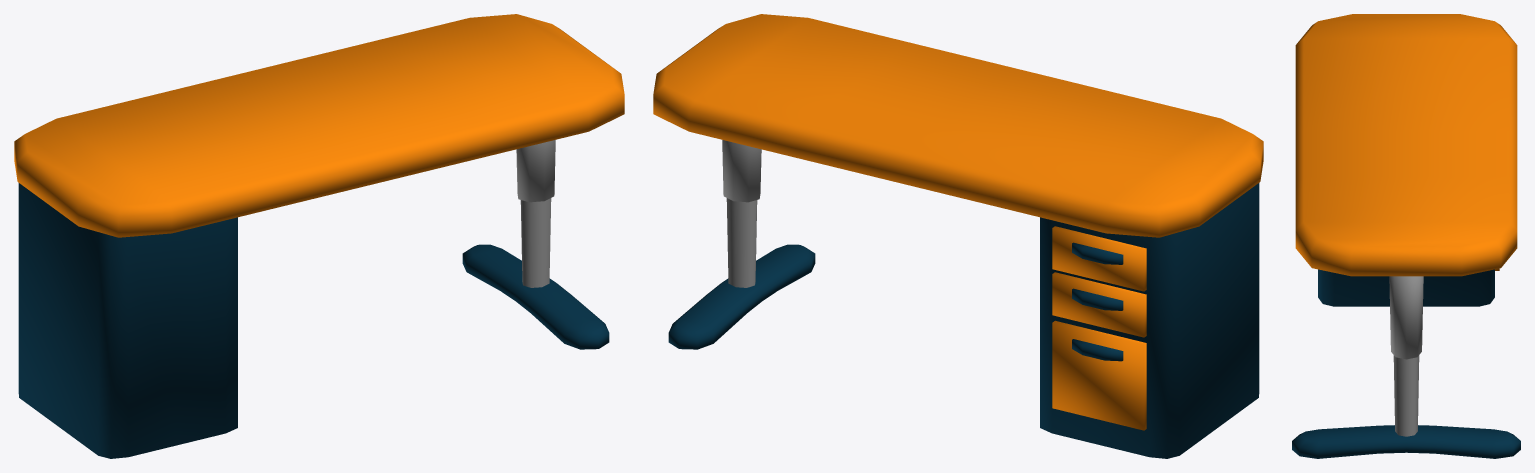
Rendered from Desk.FBX.
3 views of the same model, side by side, from view 1: azimuth 30°, elevation 25°; view 2: azimuth 150°, elevation 25°; view 3: azimuth 270°, elevation 25° (orthographic). The views are drawn at different scales.
Parts seen in each view (by area): view 1: Desk; view 2: Desk; view 3: Desk.
Part boxes in pixels (box(x1,y1,x2,y2)): Desk: box(14, 14, 624, 458); Desk: box(653, 14, 1263, 458); Desk: box(1292, 14, 1520, 458).
Size of the model in its own units: 2.02 by 0.9003 by 0.8101.
